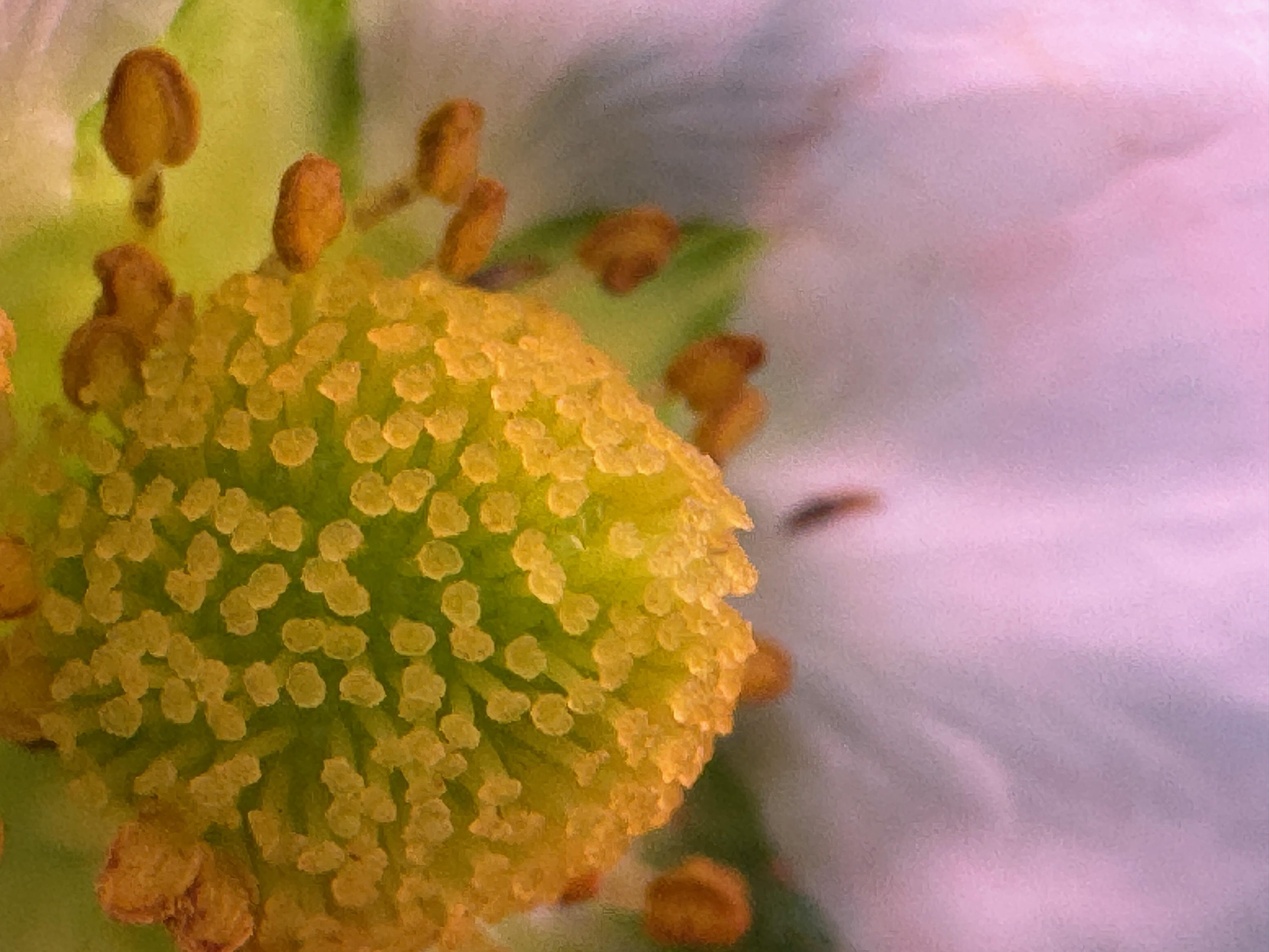tiny_pests: (760, 468, 900, 552)
